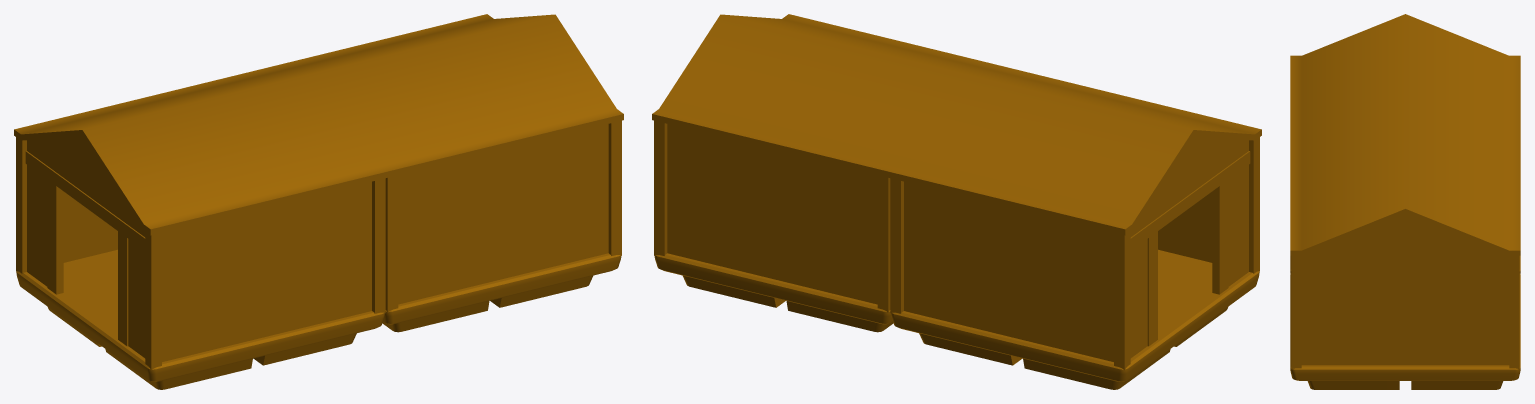
File: Hout_Huis_Placeholder.fbx
The picture shows the model from 3 angles, left to right: view 1: azimuth 30°, elevation 25°; view 2: azimuth 150°, elevation 25°; view 3: azimuth 270°, elevation 25°; orthographic projection. The views are drawn at different scales.
Visible parts, largest first — view 1: H_Dak_01, H_Dak_02, H_Muur_01, H_Muur_04, H_Foundation_01, H_MuurDakDeur, H_Foundation_02, H_Muur_02; view 2: H_Dak_01, H_Dak_02, H_Muur_02, H_Muur_03, H_Foundation_01, H_MuurDakDeur, H_Foundation_02, H_Muur_01; view 3: H_MuurDak_01, H_Dak_02, H_Dak_01, H_Foundation_02, H_Muur_04, H_Muur_03.
Part boxes in pixels (x1,y1,x2,y2): H_Dak_01: [14, 71, 387, 235]; H_Dak_02: [251, 14, 623, 177]; H_Muur_01: [145, 178, 385, 370]; H_Muur_04: [385, 120, 621, 312]; H_Foundation_01: [16, 249, 384, 389]; H_MuurDakDeur: [25, 136, 145, 358]; H_Foundation_02: [382, 253, 621, 332]; H_Muur_02: [16, 137, 117, 273]; H_Dak_01: [888, 71, 1261, 235]; H_Dak_02: [652, 14, 1024, 177]; H_Muur_02: [890, 178, 1130, 370]; H_Muur_03: [654, 120, 890, 312]; H_Foundation_01: [891, 249, 1259, 389]; H_MuurDakDeur: [1130, 136, 1250, 358]; H_Foundation_02: [654, 253, 893, 332]; H_Muur_01: [1158, 137, 1259, 273]; H_MuurDak_01: [1301, 214, 1509, 365]; H_Dak_02: [1290, 111, 1520, 255]; H_Dak_01: [1290, 14, 1520, 153]; H_Foundation_02: [1290, 273, 1520, 389]; H_Muur_04: [1291, 255, 1301, 369]; H_Muur_03: [1509, 255, 1519, 369].
Bounding box in the file's own units: 4 × 1.81 × 2.
